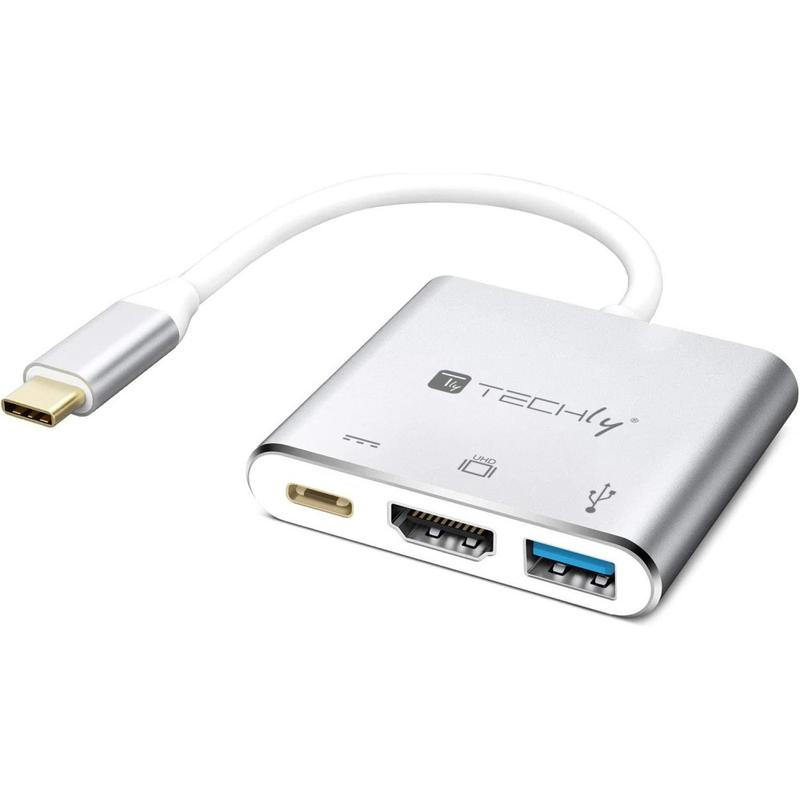HDMI: (367, 476, 510, 580)
USB: (523, 526, 630, 609)
USBC: (268, 465, 361, 533)
